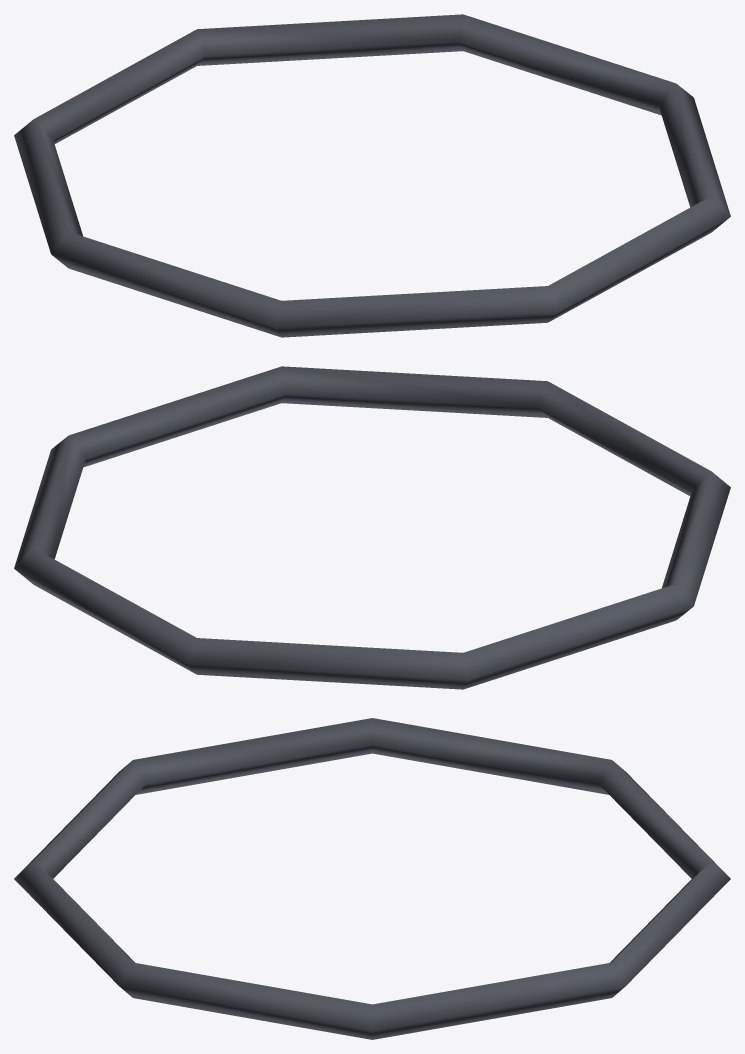
The model's file is inner_ring.obj.
3 views of the same model, one above another, from view 1: azimuth 30°, elevation 25°; view 2: azimuth 150°, elevation 25°; view 3: azimuth 270°, elevation 25° (orthographic). The views are drawn at different scales.
Visible parts, largest first — view 1: Inner_Ring; view 2: Inner_Ring; view 3: Inner_Ring.
Boxes of the visible parts, box(x1,y1,x2,y2) form: Inner_Ring: box(14, 14, 730, 337); Inner_Ring: box(14, 366, 730, 689); Inner_Ring: box(14, 718, 730, 1039).
Bounding box in the file's own units: 1.6 × 0.0875 × 1.6.
